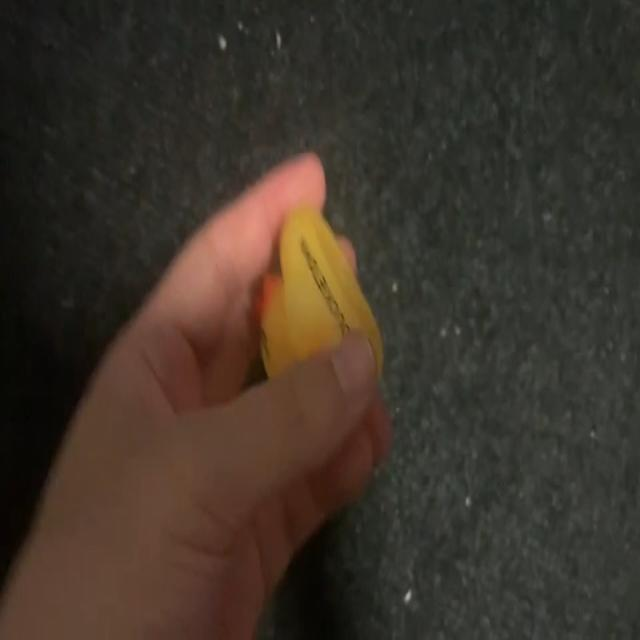rubber-duck: (260, 206, 381, 375)
